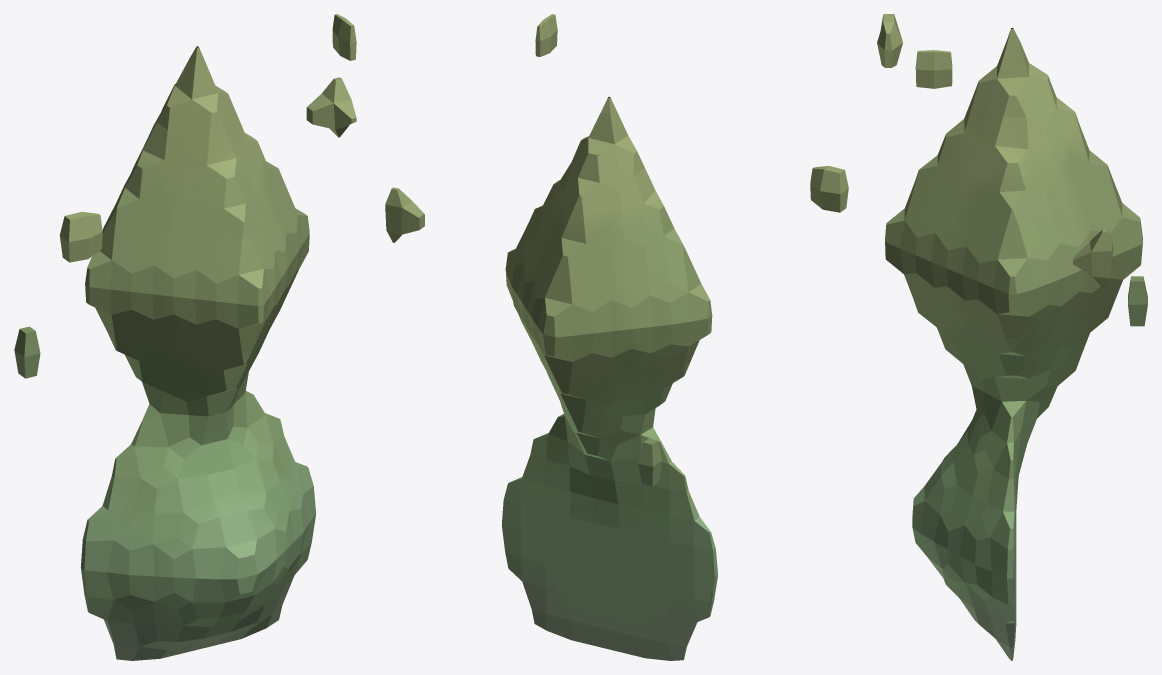
The model's file is iceElemental.glb.
3 views of the same model, side by side, from view 1: azimuth 30°, elevation 25°; view 2: azimuth 150°, elevation 25°; view 3: azimuth 270°, elevation 25° (orthographic). The views are drawn at different scales.
Visible parts, largest first — view 1: geometry_0; view 2: geometry_0; view 3: geometry_0.
Part boxes in pixels (x1,y1,x2,y2): geometry_0: (14, 14, 356, 660); geometry_0: (385, 14, 848, 660); geometry_0: (877, 14, 1147, 660).
Bounding box in the file's own units: 0.6023 × 0.9325 × 0.3635.
1 material, 1 textured.
